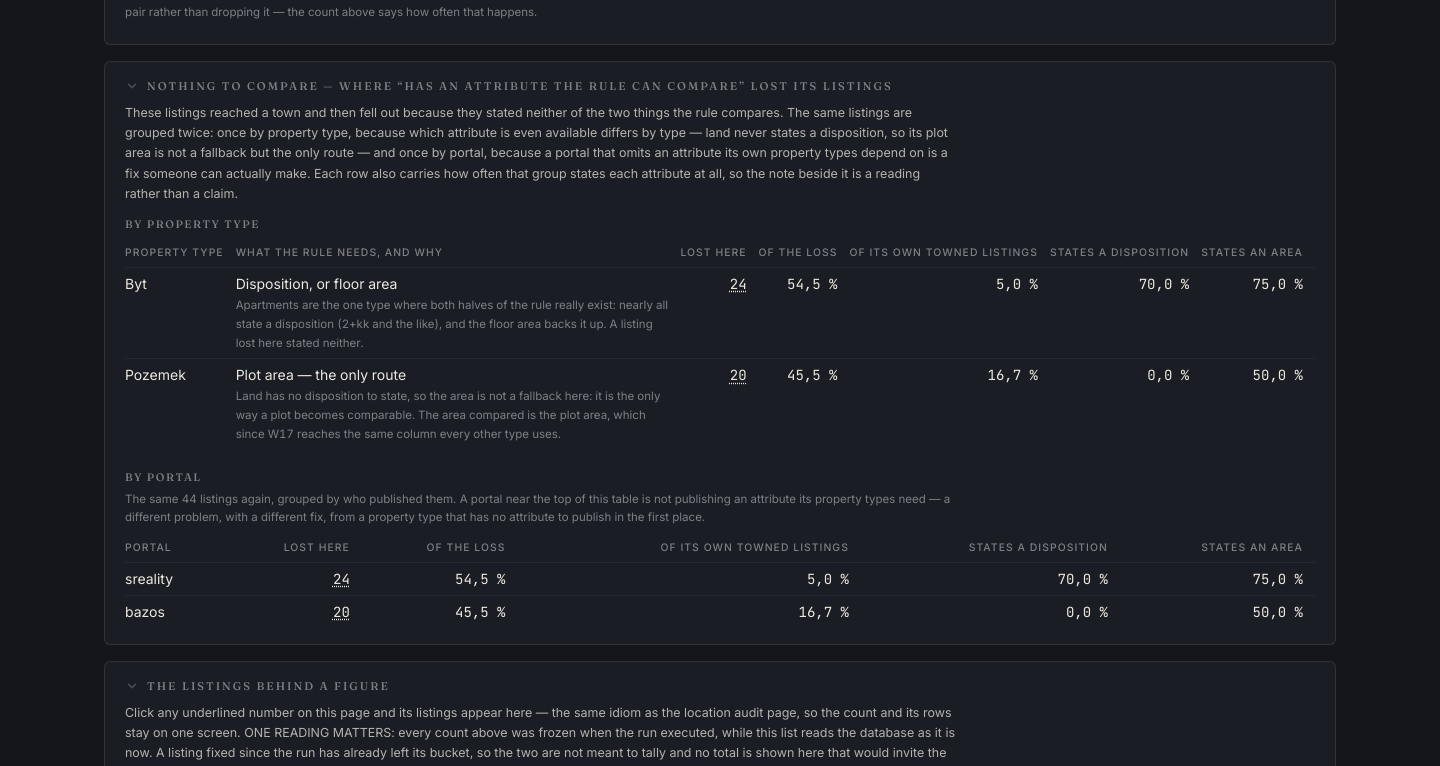
<NewDedupCandidates> › asks for the listings behind the figure that was clicked, scoped to its row
The width and height of the screenshot is (1440, 766).
(page scrolled)
Expected: the 2nd button is shown, [125,78,1315,95]
Click the button "20" in the row of "Plot area — the only route": click(738, 375) [730,365,747,385]
(page scrolled)
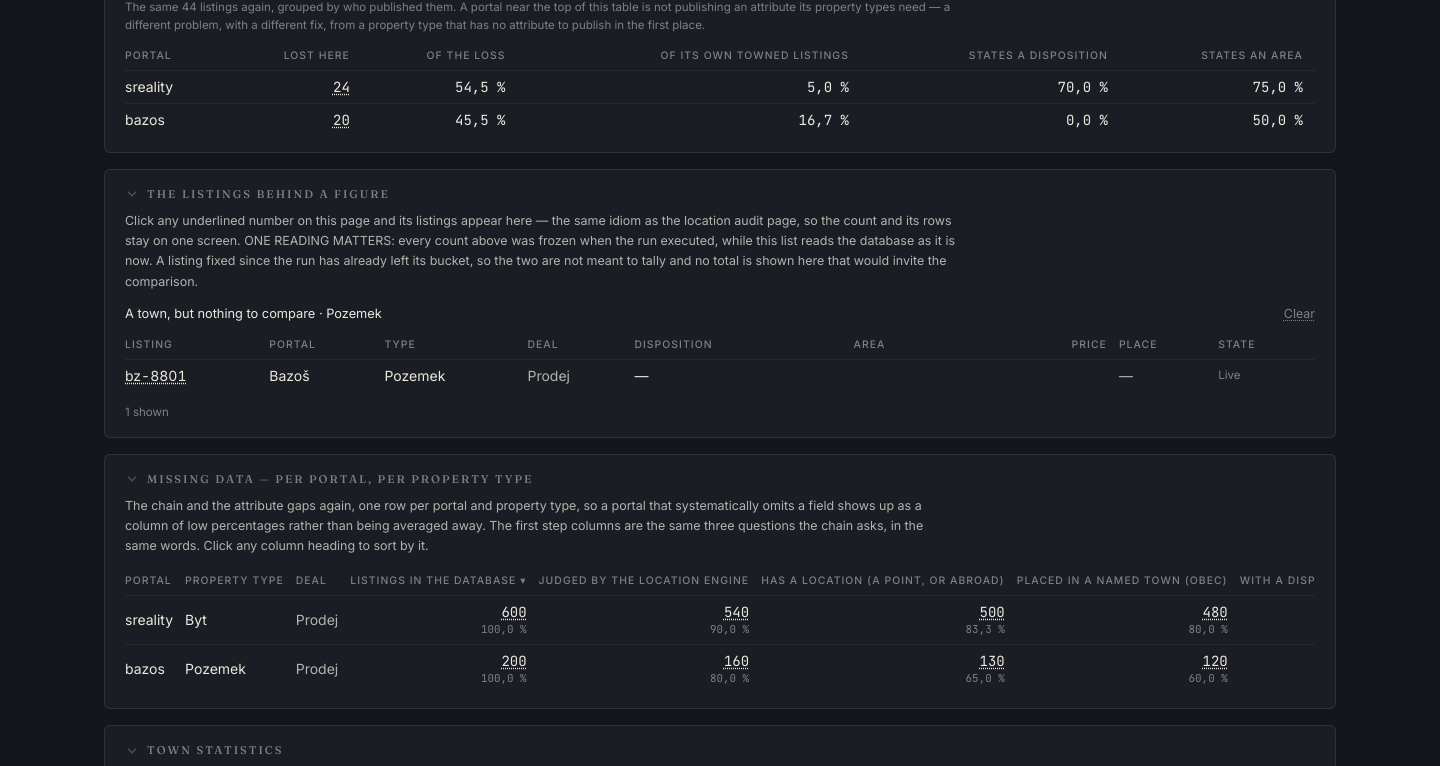
Expected: the row with test id "drill-row-8801" shows "bz-8801", [125,366,186,384]
